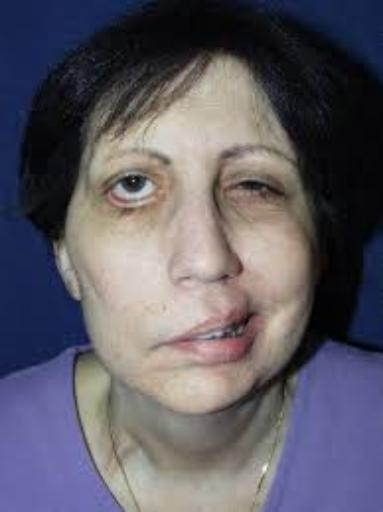left_eye: (225, 174, 285, 199)
left_lip_corner: (246, 302, 268, 329)
right_eye: (104, 171, 167, 204)
right_lip_corner: (148, 334, 178, 357)
